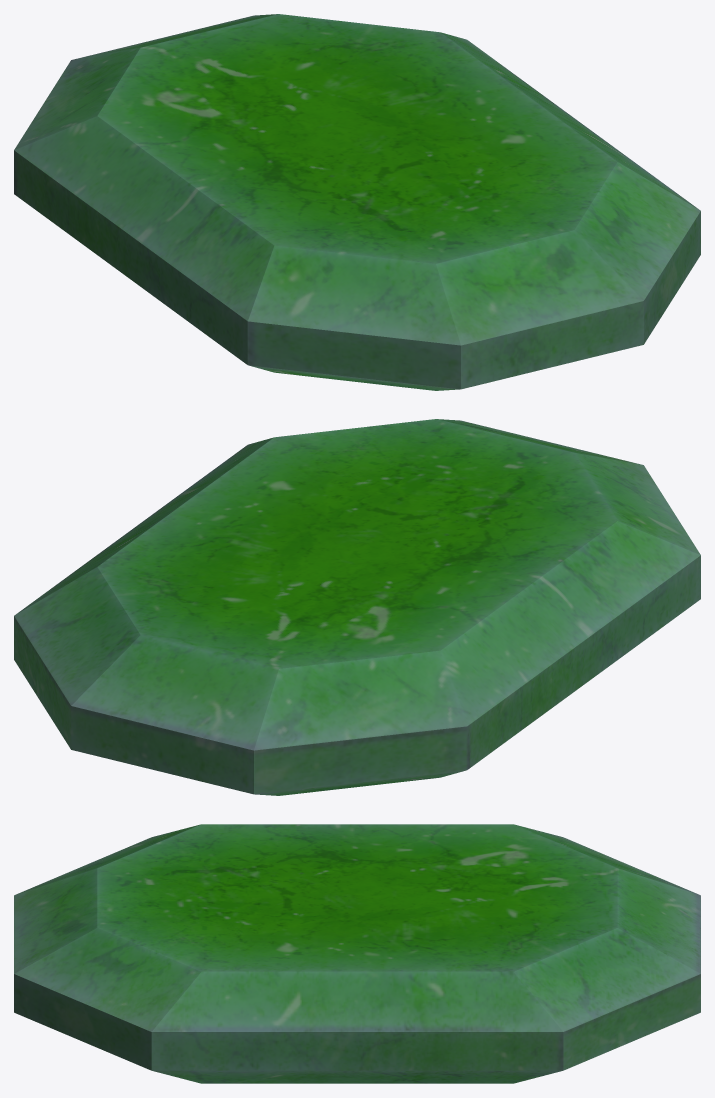
The model's file is izumrud.fbx.
The picture shows the model from 3 angles, top to bottom: view 1: azimuth 30°, elevation 25°; view 2: azimuth 150°, elevation 25°; view 3: azimuth 270°, elevation 25°; orthographic projection. The views are drawn at different scales.
Parts seen in each view (by area): view 1: izumrud; view 2: izumrud; view 3: izumrud.
Part boxes in pixels (x1=…): izumrud: x1=14, y1=14, x2=700, y2=390; izumrud: x1=14, y1=419, x2=700, y2=795; izumrud: x1=14, y1=824, x2=700, y2=1083.
Size of the model in its own units: 200 by 53.57 by 298.
